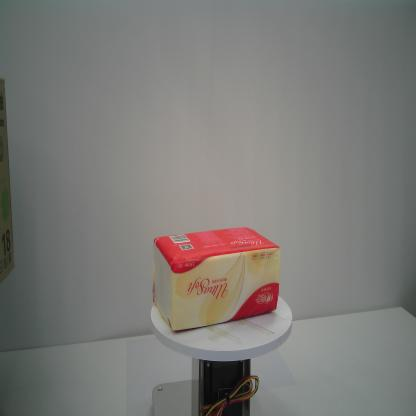Tissue: (151, 226, 281, 332)
